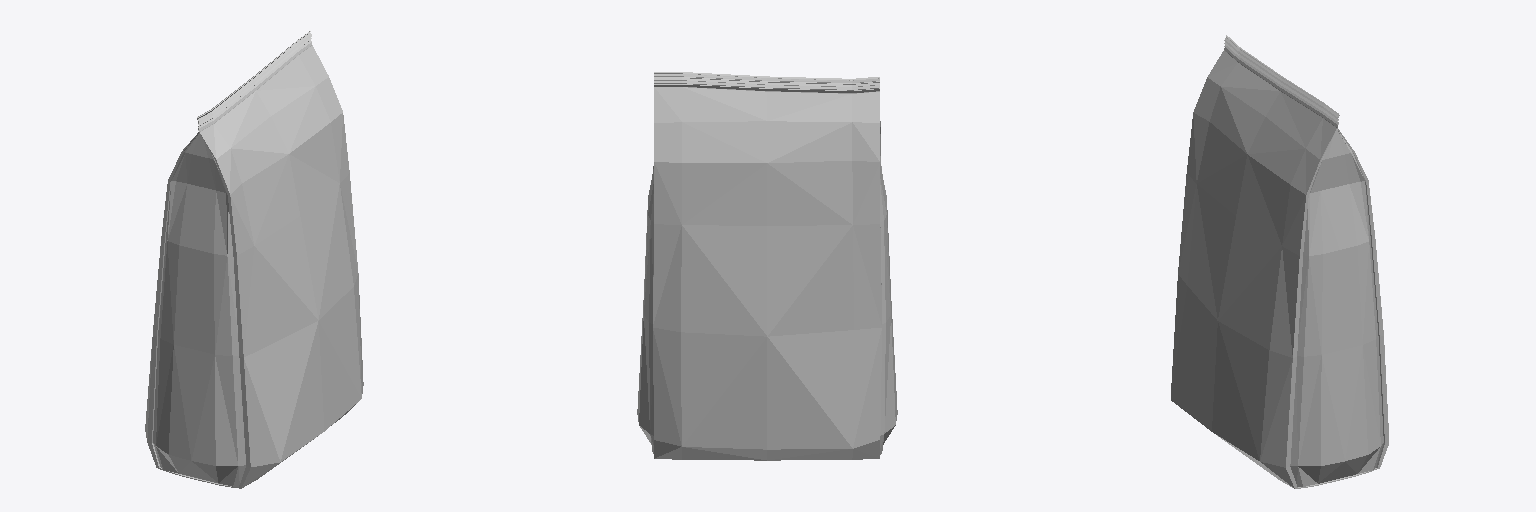
File: Mockup Cat Food_polymsh187.obj
3 renders of one model, left to right at view 1: azimuth 30°, elevation 25°; view 2: azimuth 150°, elevation 25°; view 3: azimuth 270°, elevation 25°, orthographic.
Visible parts, largest first — view 1: polymsh187; view 2: polymsh187; view 3: polymsh187.
Part boxes in pixels (x1,y1,x2,y2): polymsh187: (145,31,363,488); polymsh187: (637,72,897,460); polymsh187: (1171,35,1388,488).
Size of the model in its own units: 38.05 by 60.66 by 32.65.